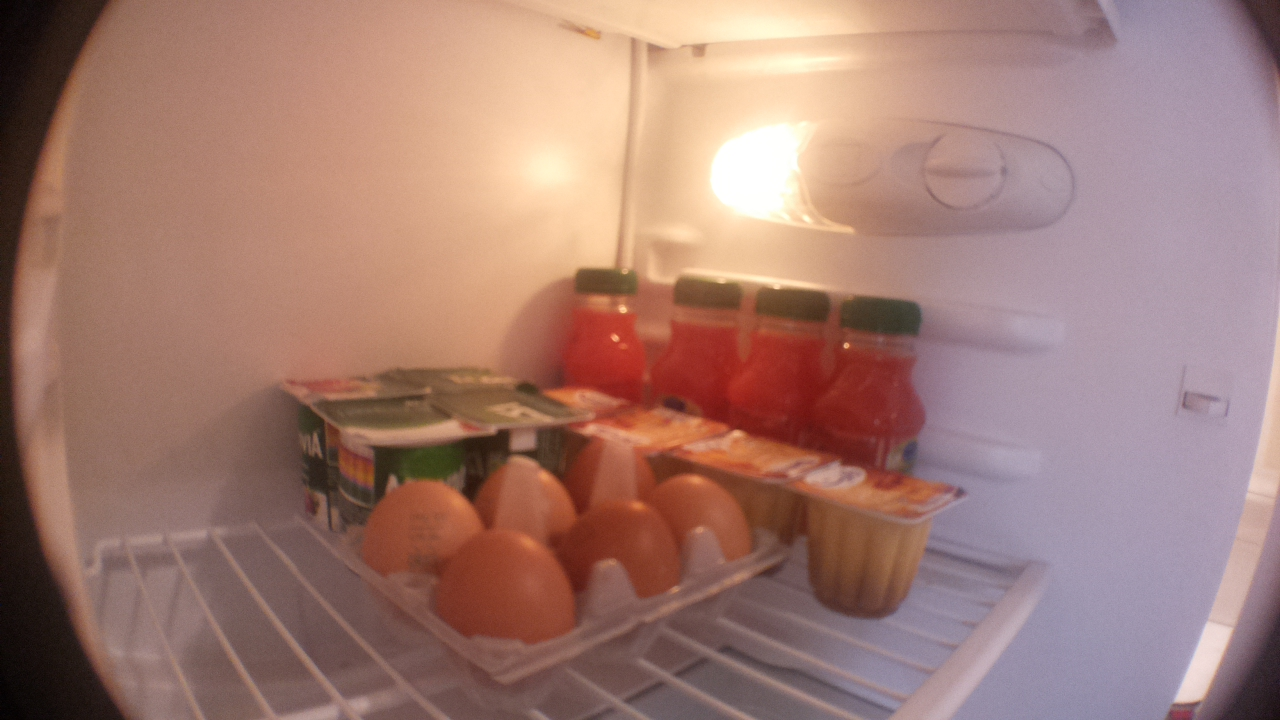caramel: (784, 454, 968, 628), (669, 424, 813, 493), (574, 403, 725, 456)
egg: (428, 524, 582, 715), (567, 497, 687, 652), (661, 475, 750, 624), (359, 479, 481, 576), (483, 455, 571, 531), (576, 438, 654, 501)
juice: (814, 295, 933, 452), (729, 286, 837, 437), (654, 275, 754, 415), (555, 258, 649, 393)
yoghurt: (327, 408, 474, 517), (288, 369, 343, 542), (438, 395, 585, 454), (402, 364, 531, 396)
